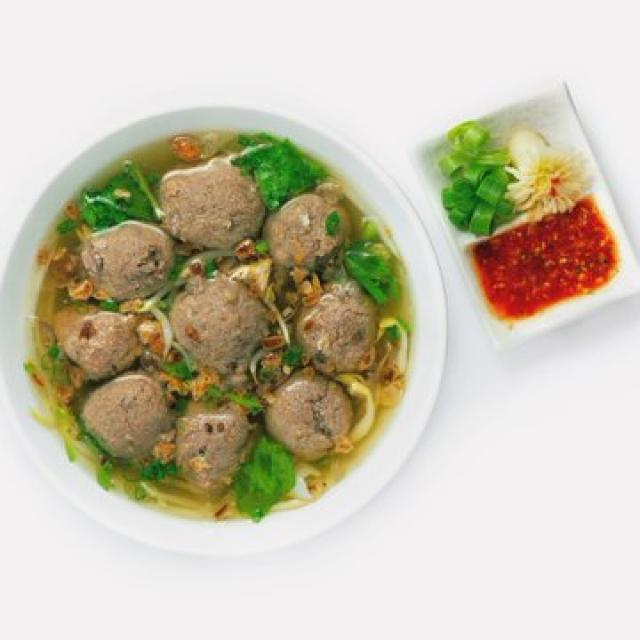bakso: (27, 130, 412, 523)
